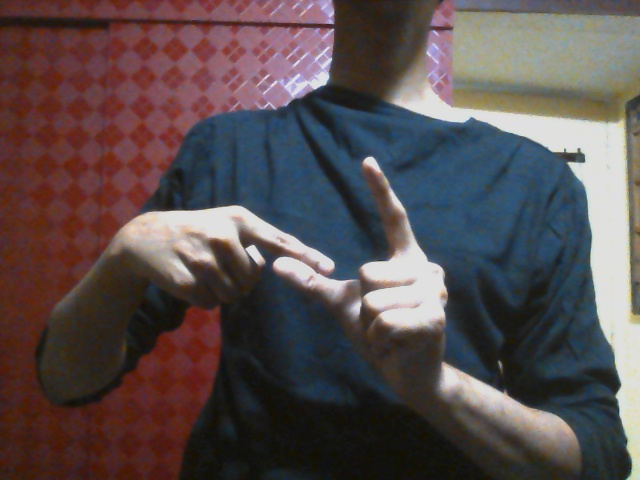J: (116, 155, 449, 371)
